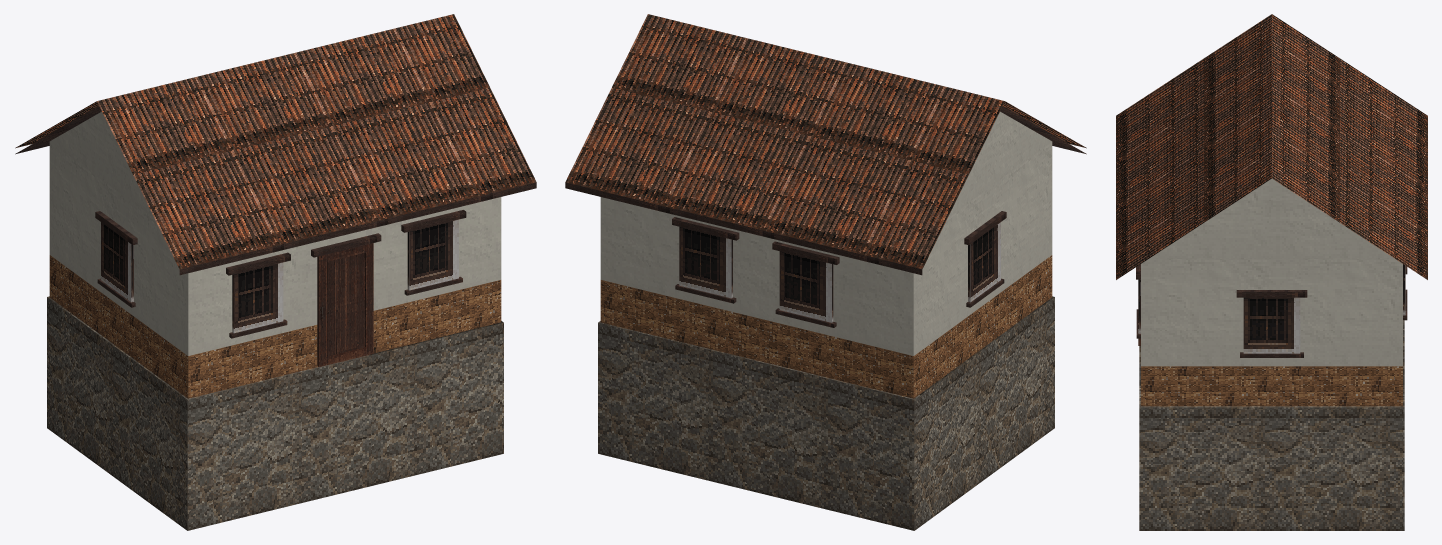
The model's file is 01_rural_blanco_humo_teja.glb.
3 renders of one model, left to right at view 1: azimuth 30°, elevation 25°; view 2: azimuth 150°, elevation 25°; view 3: azimuth 270°, elevation 25°, orthographic. The views are drawn at different scales.
Visible parts, largest first — view 1: 01_rural_blanco_humo_teja; view 2: 01_rural_blanco_humo_teja; view 3: 01_rural_blanco_humo_teja.
Part boxes in pixels (<box>): 01_rural_blanco_humo_teja: <box>15,14,536,530</box>; 01_rural_blanco_humo_teja: <box>565,14,1086,530</box>; 01_rural_blanco_humo_teja: <box>1116,14,1427,530</box>.
Size of the model in its own units: 6.84 by 7.02 by 5.48.
Materials: 7 (7 with a texture image).
